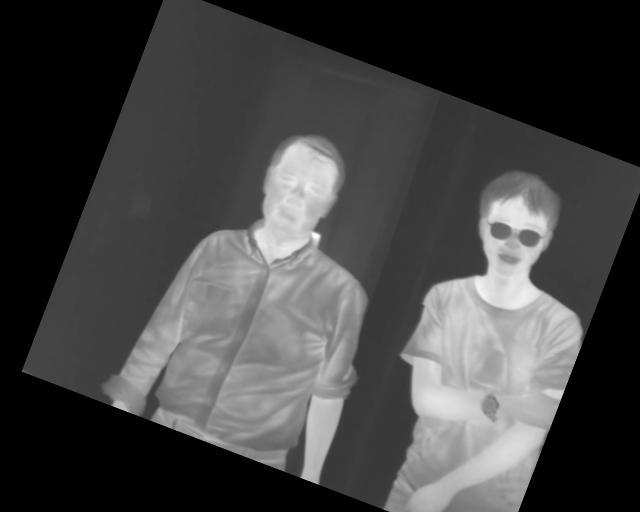face: (244, 120, 357, 256), (458, 160, 571, 289)
